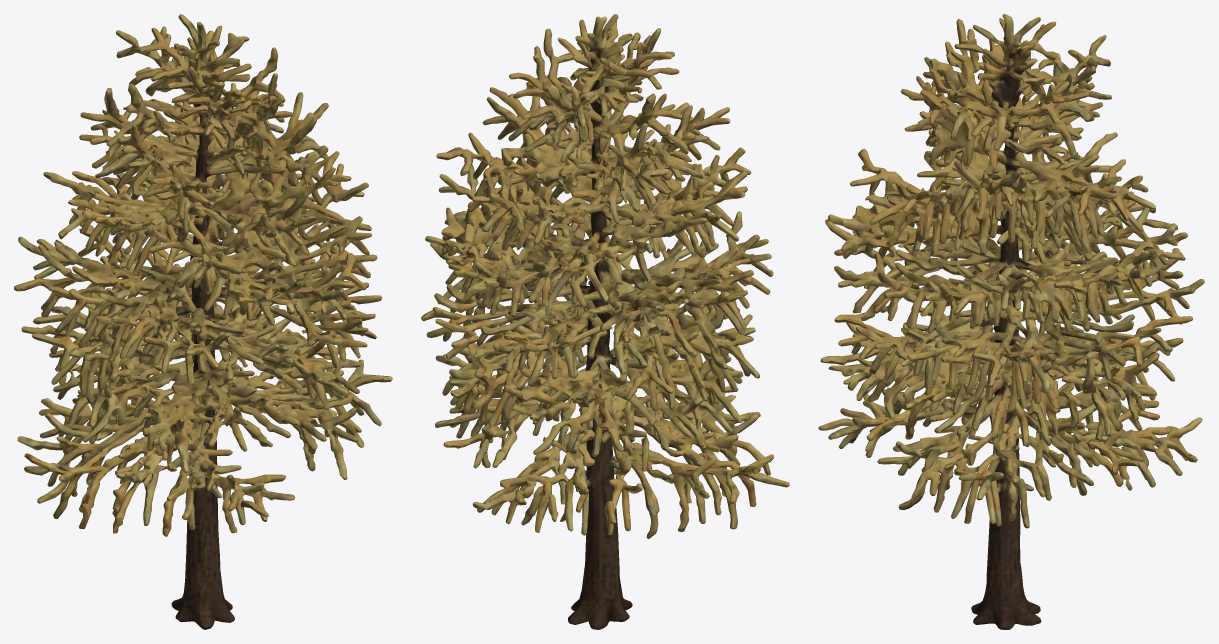
Rendered from larch-v20.glb.
3 views of the same model, side by side, from view 1: azimuth 30°, elevation 25°; view 2: azimuth 150°, elevation 25°; view 3: azimuth 270°, elevation 25° (orthographic).
Parts seen in each view (by area): view 1: geometry_0; view 2: geometry_0; view 3: geometry_0.
Boxes of the visible parts, x1,y1,x2,y2 form: geometry_0: (14, 14, 392, 629); geometry_0: (421, 14, 789, 629); geometry_0: (818, 14, 1204, 629).
Bounding box in the file's own units: 7.45 × 12 × 6.99.
Materials: 1 (1 with a texture image).
